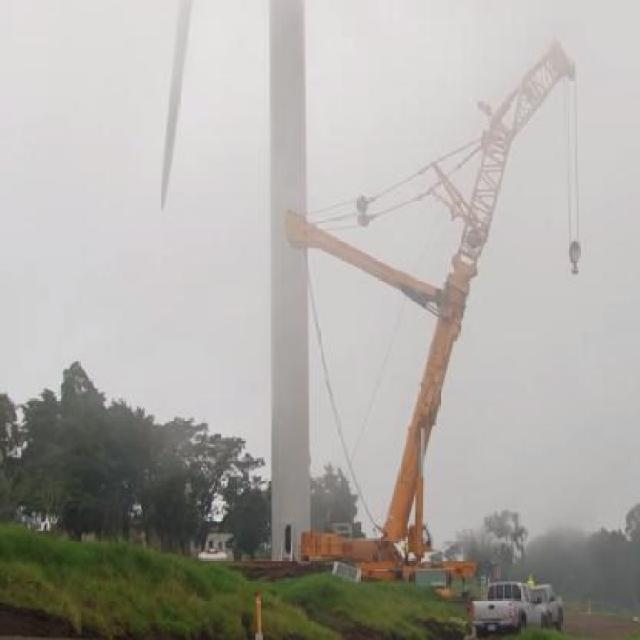Mobile Crane: (286, 38, 577, 577)
